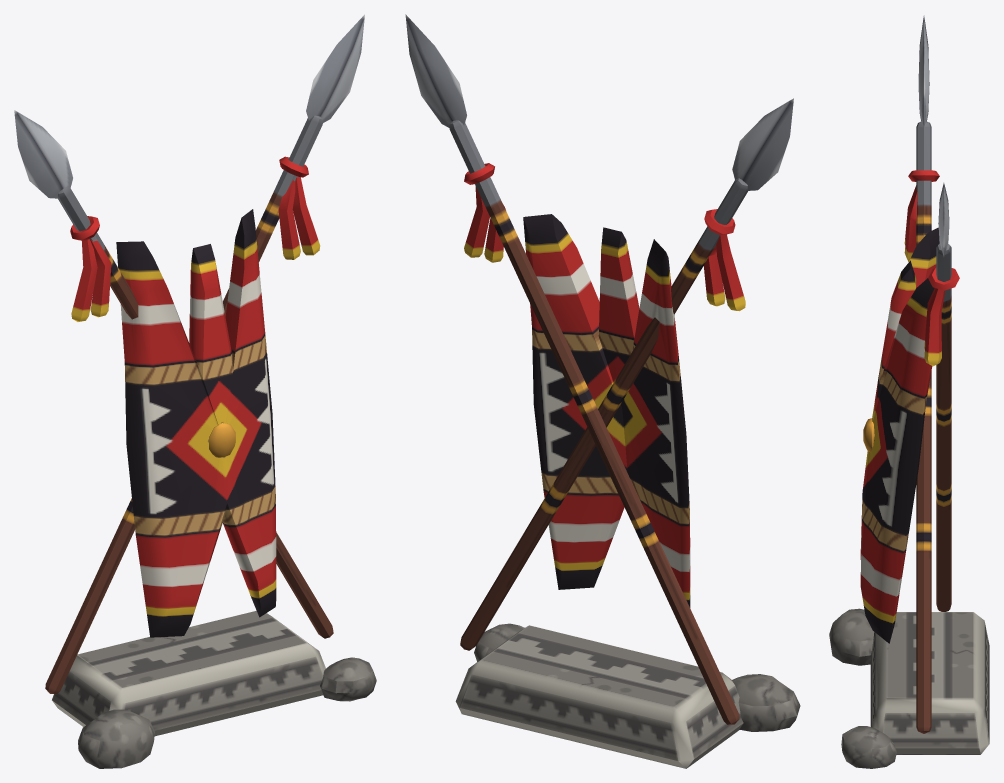
The model's file is spears_shield.glb.
3 renders of one model, left to right at view 1: azimuth 30°, elevation 25°; view 2: azimuth 150°, elevation 25°; view 3: azimuth 270°, elevation 25°, orthographic. The views are drawn at different scales.
Parts seen in each view (by area): view 1: spears_shield; view 2: spears_shield; view 3: spears_shield.
Boxes of the visible parts, x1=… form: spears_shield: x1=14, y1=14, x2=376, y2=768; spears_shield: x1=405, y1=14, x2=800, y2=768; spears_shield: x1=829, y1=15, x2=989, y2=768.
Size of the model in its own units: 1.49 by 2.51 by 0.6026.
Materials: 1 (1 with a texture image).
